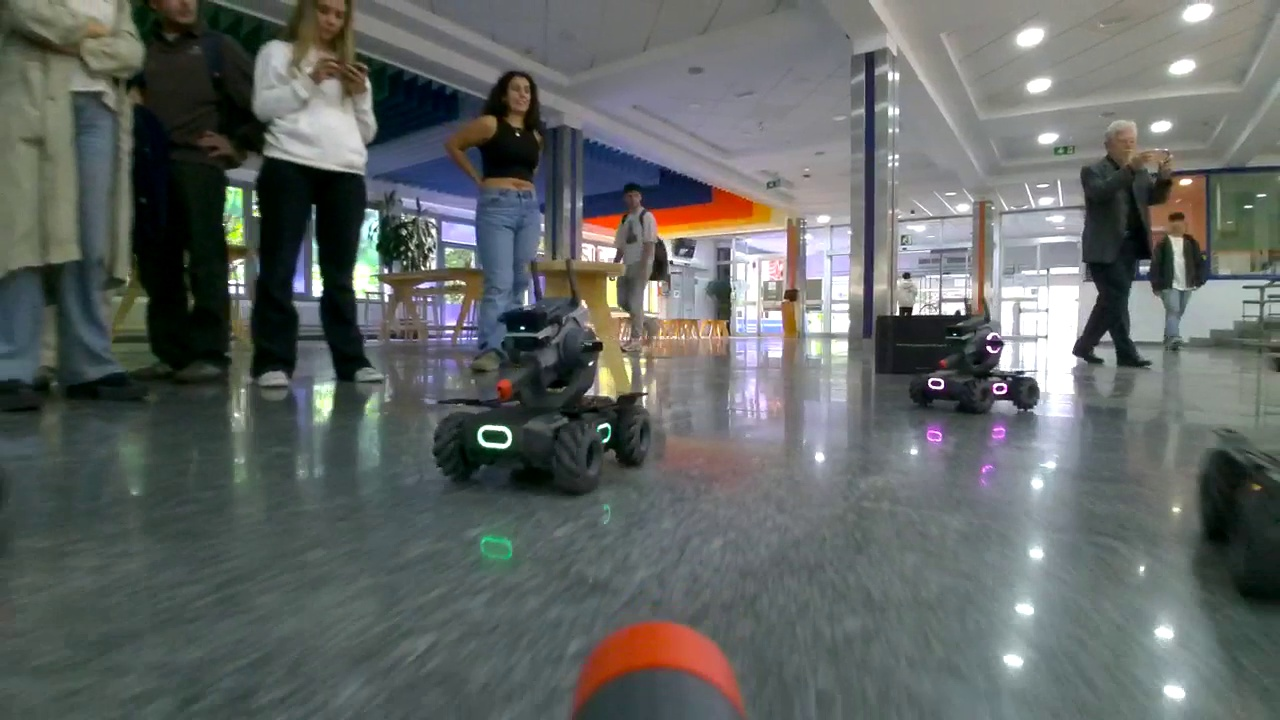robot: (431, 303, 654, 499), (908, 312, 1045, 416)
